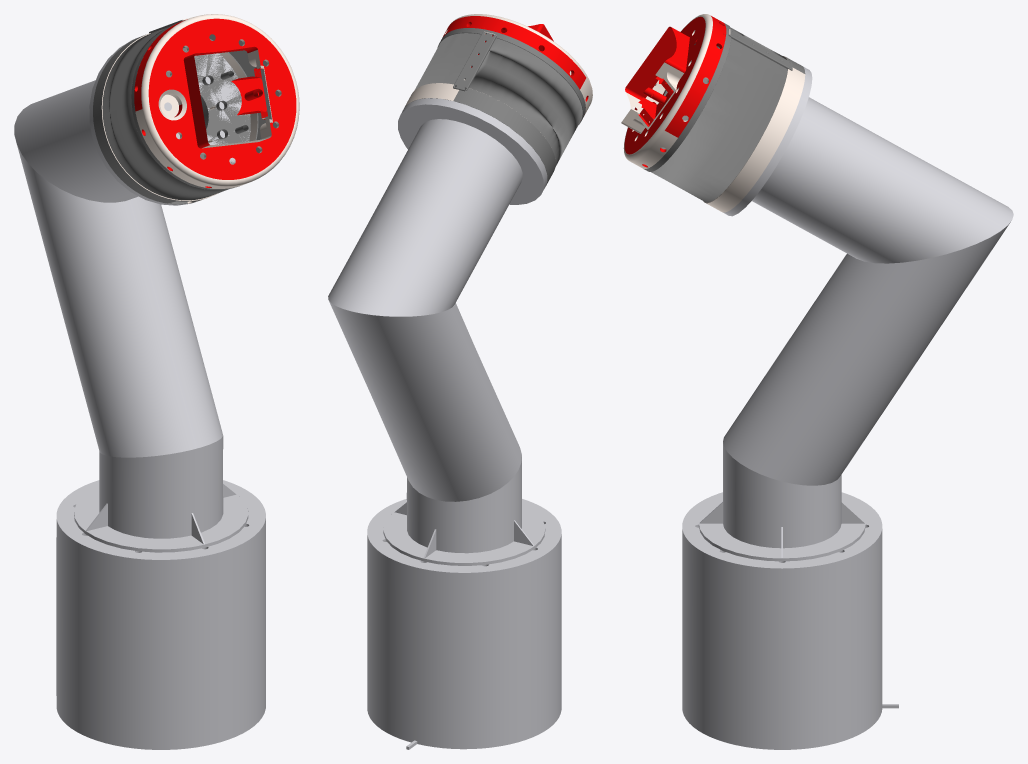
The model's file is seperate-1-simplified v1.fbx.
3 views of the same model, side by side, from view 1: azimuth 30°, elevation 25°; view 2: azimuth 150°, elevation 25°; view 3: azimuth 270°, elevation 25° (orthographic). The views are drawn at different scales.
Visible parts, largest first — view 1: Body1 (×6); view 2: Body1 (×7); view 3: Body1 (×6).
Boxes of the visible parts, x1=… form: Body1 (×6): x1=14, y1=14, x2=299, y2=749; Body1 (×7): x1=328, y1=14, x2=592, y2=749; Body1 (×6): x1=621, y1=14, x2=1013, y2=749.
Bounding box in the file's own units: 0.6 × 2.26 × 1.18.
